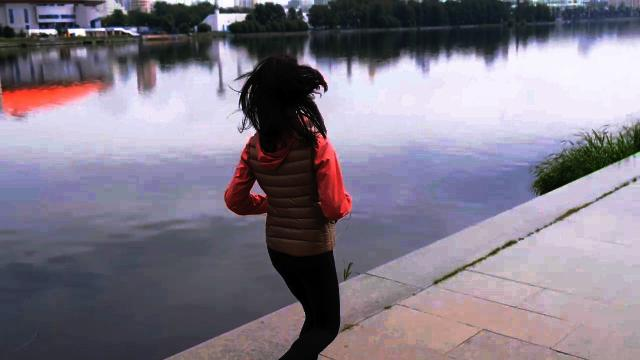berlari: (216, 46, 358, 360)
